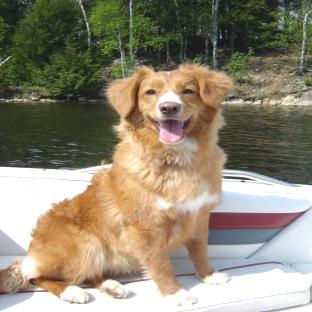Animal: (0, 64, 233, 306)
